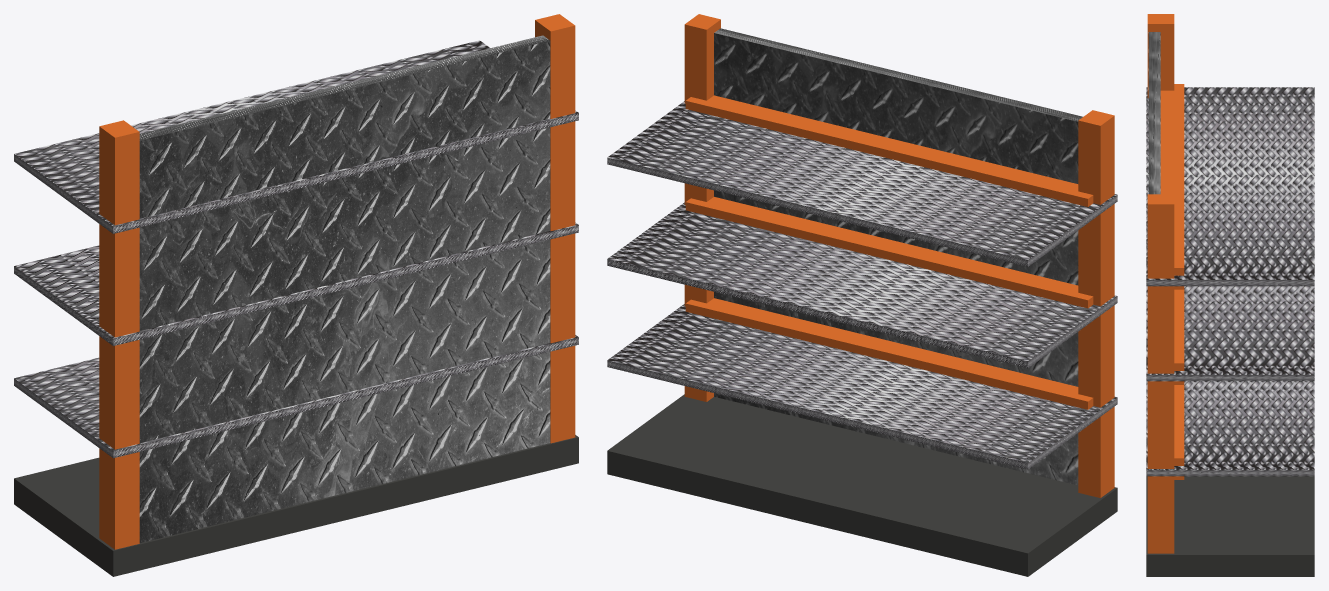
File: Shelf.fbx
3 renders of one model, left to right at view 1: azimuth 30°, elevation 25°; view 2: azimuth 150°, elevation 25°; view 3: azimuth 270°, elevation 25°, orthographic. The views are drawn at different scales.
Parts seen in each view (by area): view 1: Cube.001, Cube, Cube.005, Cube.004, Cube.006, Cube.002, Cube.003; view 2: Cube, Cube.001, Cube.004, Cube.003, Cube.002, Cube.005, Cube.007, Cube.009, Cube.008, Cube.006; view 3: Cube.004, Cube, Cube.003, Cube.002, Cube.006, Cube.009, Cube.001, Cube.005, Cube.007, Cube.008.
Boxes of the visible parts, box(x1,y1,x2,y2) form: Cube.001: box(139, 35, 550, 542); Cube: box(14, 435, 578, 576); Cube.005: box(99, 120, 139, 549); Cube.004: box(14, 40, 578, 233); Cube.006: box(535, 14, 575, 443); Cube.002: box(14, 335, 578, 458); Cube.003: box(14, 222, 578, 345); Cube: box(607, 394, 1117, 576); Cube.001: box(714, 28, 1082, 485); Cube.004: box(607, 101, 1117, 266); Cube.003: box(607, 202, 1117, 368); Cube.002: box(607, 304, 1117, 469); Cube.005: box(1078, 110, 1114, 497); Cube.007: box(685, 197, 1093, 308); Cube.009: box(685, 95, 1093, 206); Cube.008: box(685, 298, 1093, 409); Cube.006: box(684, 14, 720, 401); Cube.004: box(1146, 87, 1314, 286); Cube: box(1146, 476, 1314, 576); Cube.003: box(1146, 286, 1314, 381); Cube.002: box(1146, 381, 1314, 476); Cube.006: box(1147, 194, 1174, 553); Cube.009: box(1160, 84, 1184, 289); Cube.001: box(1148, 32, 1160, 194); Cube.005: box(1147, 14, 1174, 98); Cube.007: box(1174, 289, 1184, 384); Cube.008: box(1174, 385, 1184, 479).
Size of the model in its own units: 869 by 781 by 321.
